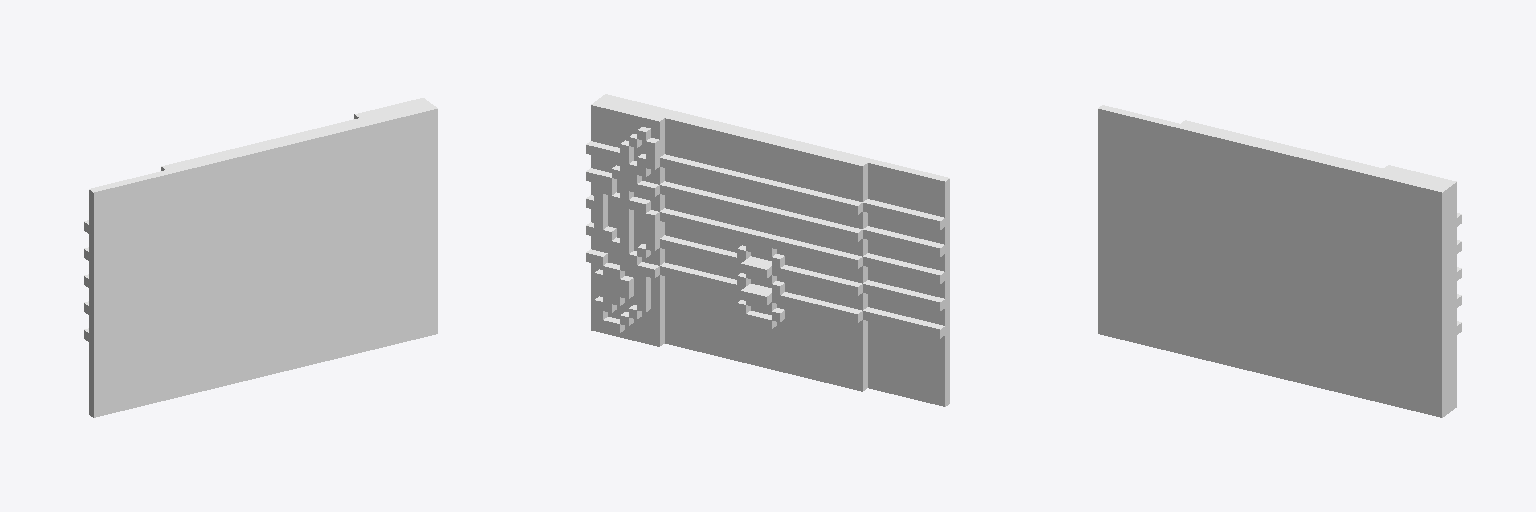
File: pentagramaRemenor.obj
3 renders of one model, left to right at view 1: azimuth 30°, elevation 25°; view 2: azimuth 150°, elevation 25°; view 3: azimuth 330°, elevation 25°, orthographic.
Visible parts, largest first — view 1: object 1; view 2: object 1; view 3: object 1.
Part boxes in pixels (x1,y1,x2,y2): object 1: (84, 98, 437, 417); object 1: (586, 94, 949, 406); object 1: (1098, 105, 1461, 417).
Bounding box in the file's own units: 4 × 2.5 × 0.4.